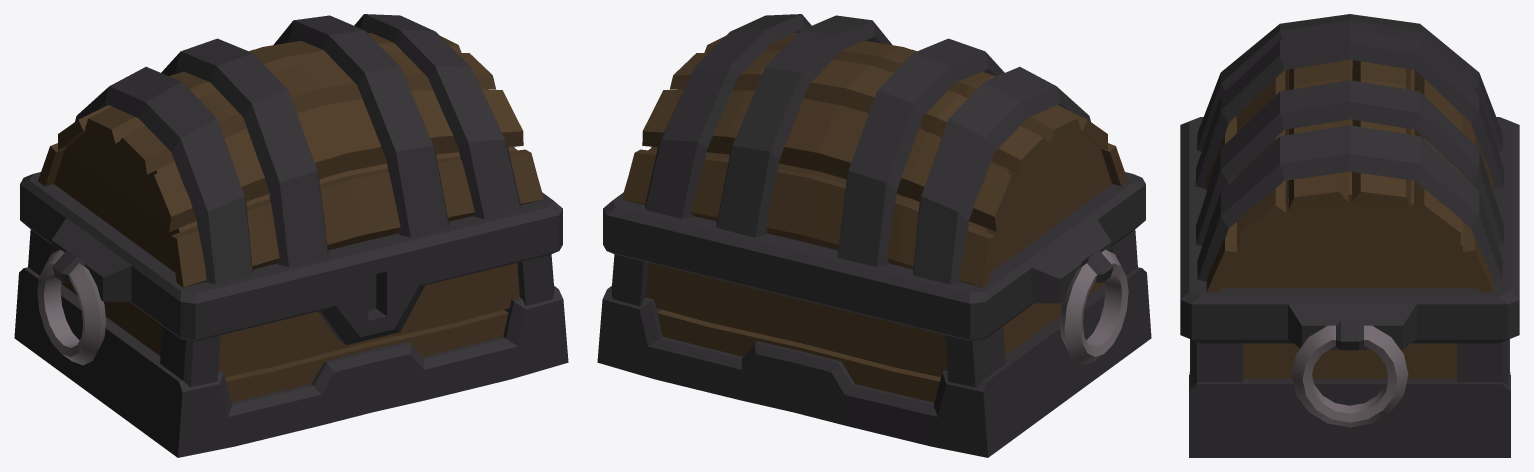
The model's file is chest-closed.glb.
3 renders of one model, left to right at view 1: azimuth 30°, elevation 25°; view 2: azimuth 150°, elevation 25°; view 3: azimuth 270°, elevation 25°, orthographic.
Parts seen in each view (by area): view 1: Prop_Chest_Closed; view 2: Prop_Chest_Closed; view 3: Prop_Chest_Closed.
Boxes of the visible parts, x1=… form: Prop_Chest_Closed: x1=14, y1=14, x2=568, y2=457; Prop_Chest_Closed: x1=597, y1=14, x2=1151, y2=457; Prop_Chest_Closed: x1=1180, y1=14, x2=1519, y2=457.
Bounding box in the file's own units: 1.39 × 0.8812 × 0.8873.
